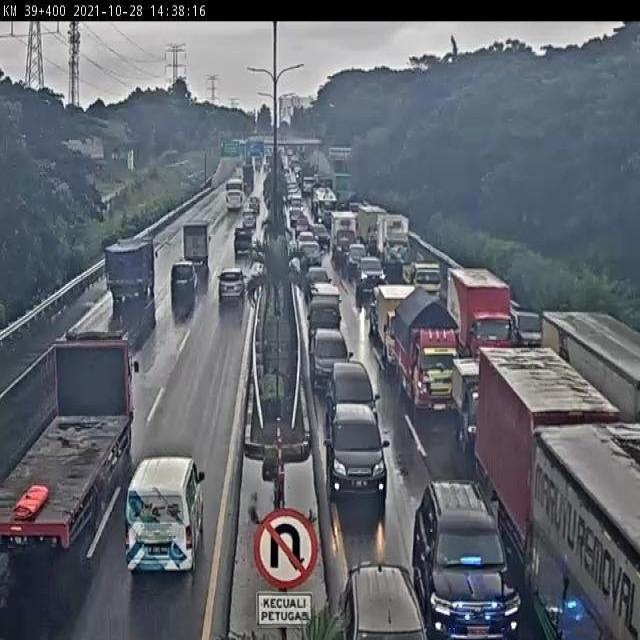big bus: (225, 175, 246, 208)
big truck: (480, 348, 640, 640), (0, 333, 134, 580), (539, 309, 640, 423), (398, 284, 456, 412), (449, 264, 517, 363), (100, 232, 159, 301), (376, 284, 431, 356), (182, 217, 216, 271), (404, 262, 447, 302)
car: (417, 474, 508, 640), (113, 449, 209, 571), (340, 548, 422, 640), (329, 403, 389, 496), (309, 321, 361, 399), (329, 361, 387, 427), (313, 297, 354, 339), (214, 266, 247, 306), (515, 308, 545, 348), (170, 259, 199, 297)
small truck: (454, 356, 497, 448)
